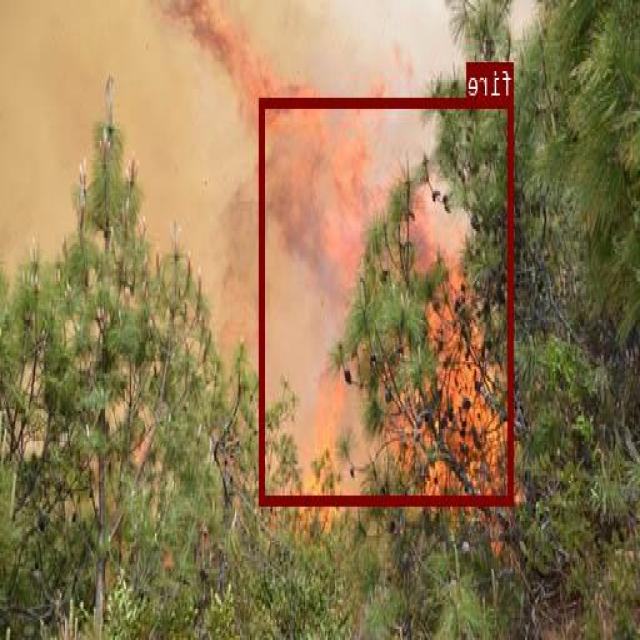fire: (261, 97, 514, 503)
